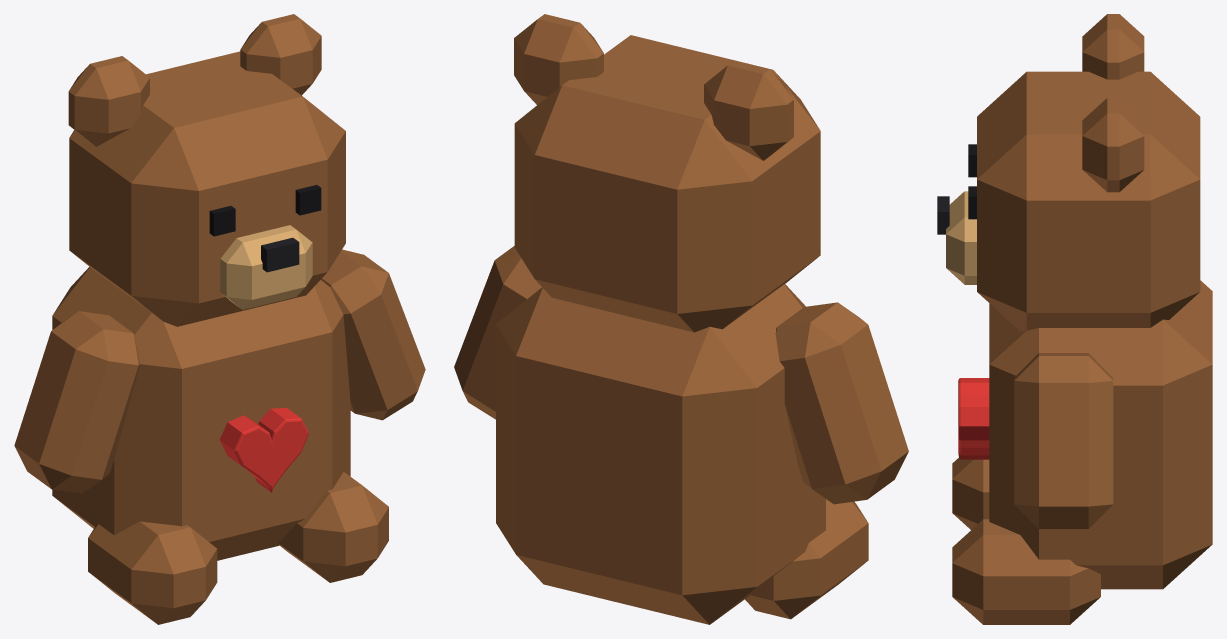
Rendered from TeddyBear.fbx.
3 views of the same model, side by side, from view 1: azimuth 30°, elevation 25°; view 2: azimuth 150°, elevation 25°; view 3: azimuth 270°, elevation 25° (orthographic). The views are drawn at different scales.
Parts seen in each view (by area): view 1: TeddyBear; view 2: TeddyBear; view 3: TeddyBear.
Part boxes in pixels (left/top/right/bottom): TeddyBear: left=14, top=14, right=425, bottom=624; TeddyBear: left=454, top=14, right=908, bottom=624; TeddyBear: left=937, top=14, right=1212, bottom=624.
Size of the model in its own units: 3.6 by 4.55 by 2.22.
Materials: 1 (1 with a texture image).
